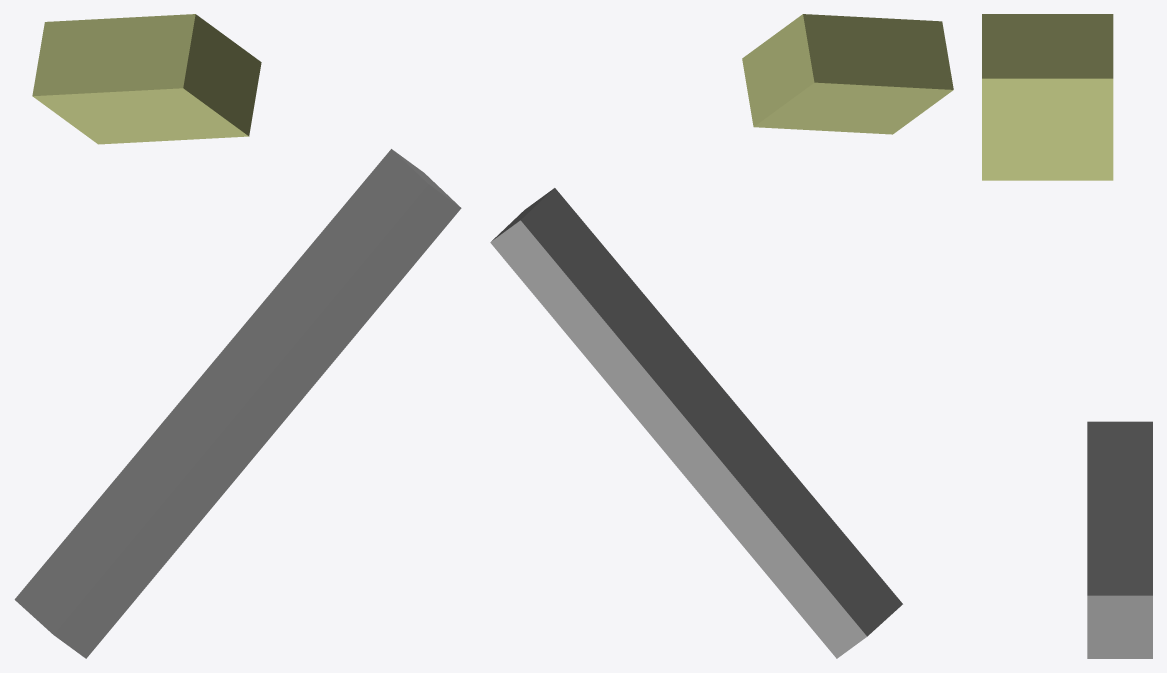
The picture shows the model from 3 angles, left to right: view 1: azimuth 30°, elevation 25°; view 2: azimuth 150°, elevation 25°; view 3: azimuth 270°, elevation 25°; orthographic projection. The views are drawn at different scales.
Visible parts, largest first — view 1: 0_1_2_0_1_0_0_2_1; view 2: 0_1_2_0_1_0_0_2_1; view 3: 0_1_2_0_1_0_0_2_1.
Boxes of the visible parts, x1,y1,x2,y2 form: 0_1_2_0_1_0_0_2_1: [14, 14, 461, 658]; 0_1_2_0_1_0_0_2_1: [490, 14, 953, 658]; 0_1_2_0_1_0_0_2_1: [982, 14, 1152, 658].
Bounding box in the file's own units: 21.86 × 31.85 × 7.81.
